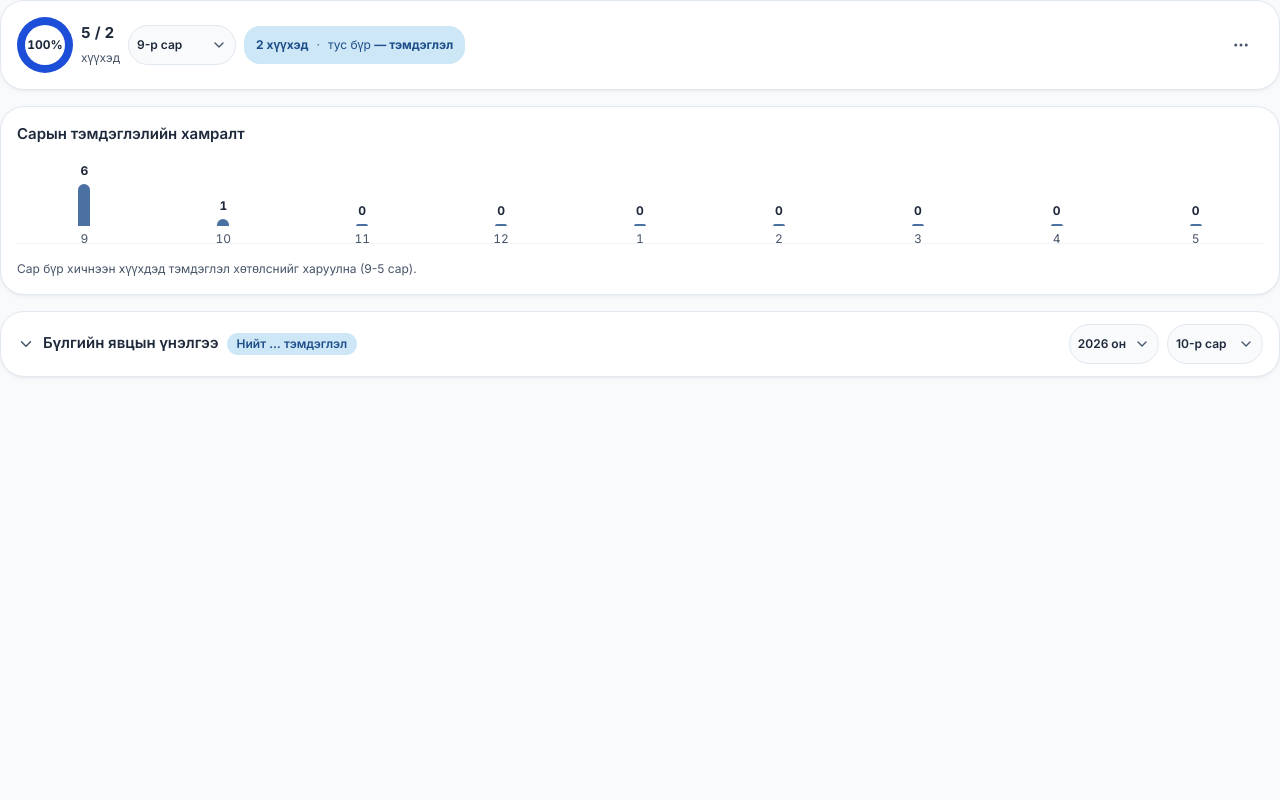
Test: the assessment summary › lets the group's own teacher set the goal
The image size is (1280, 800).
Step 1. Click the button named "Сарын зорилгын үйлдэл" → (1241, 45), box [1219, 23, 1263, 67]
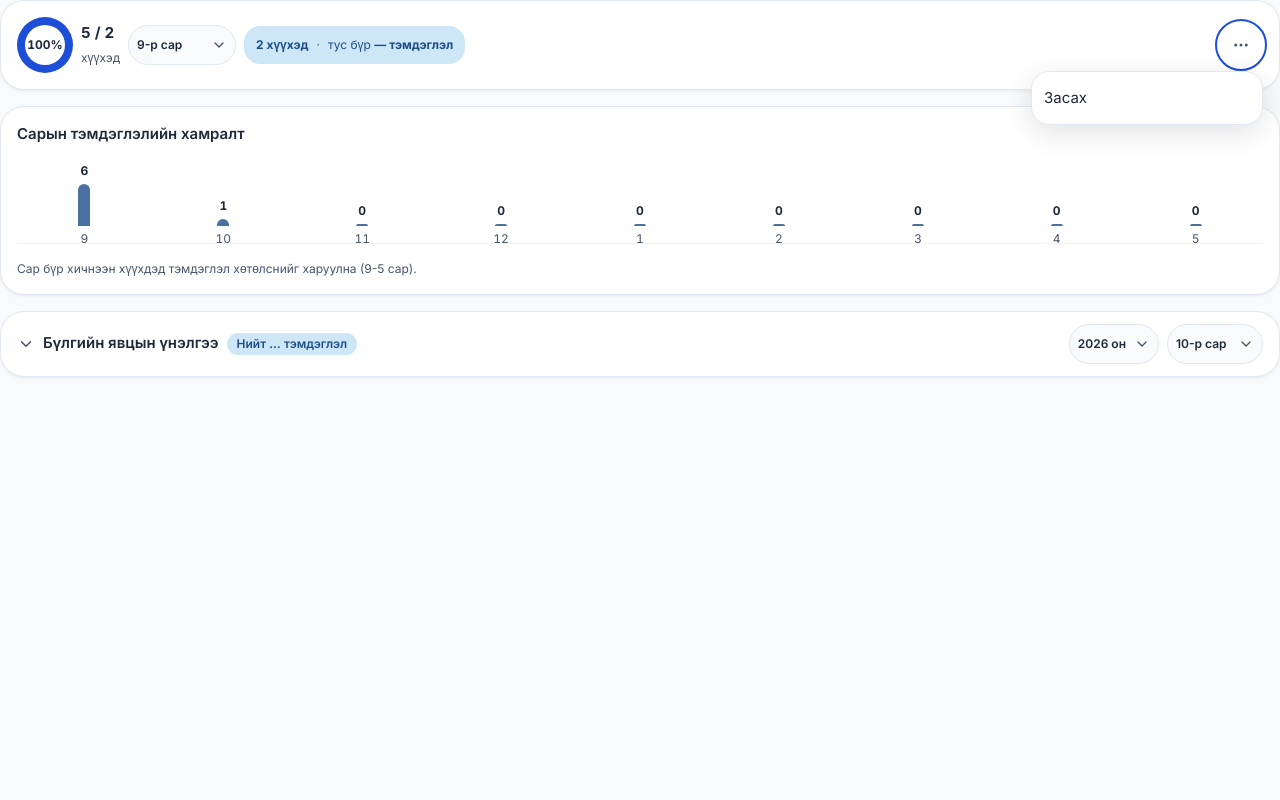
Step 2. Click the menu item "Засах" → (1147, 98), box [1032, 76, 1262, 120]
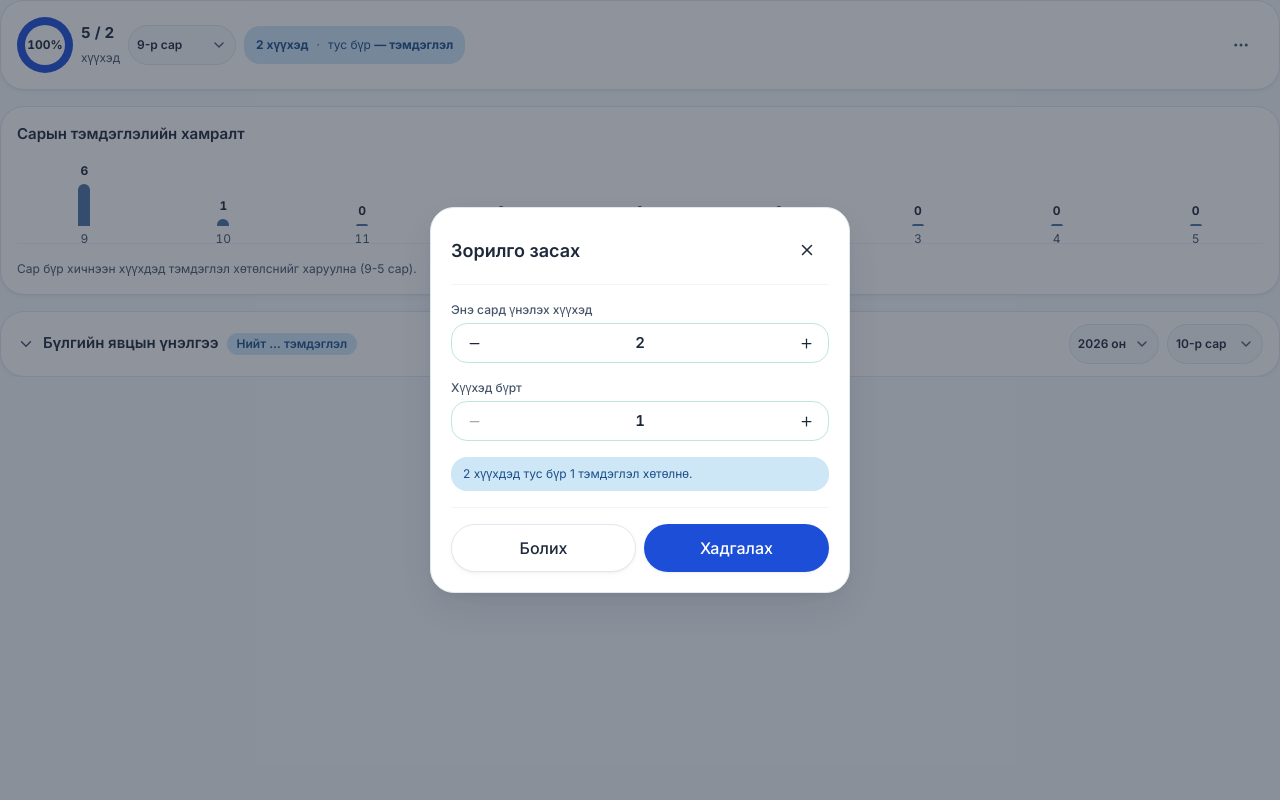
Now the element named "Зорилтот хүүхдийн тоо" is shown, box [451, 323, 829, 363]
Now the element named "Нэг хүүхдэд бичих тэмдэглэлийн тоо" is shown, box [451, 401, 829, 441]
